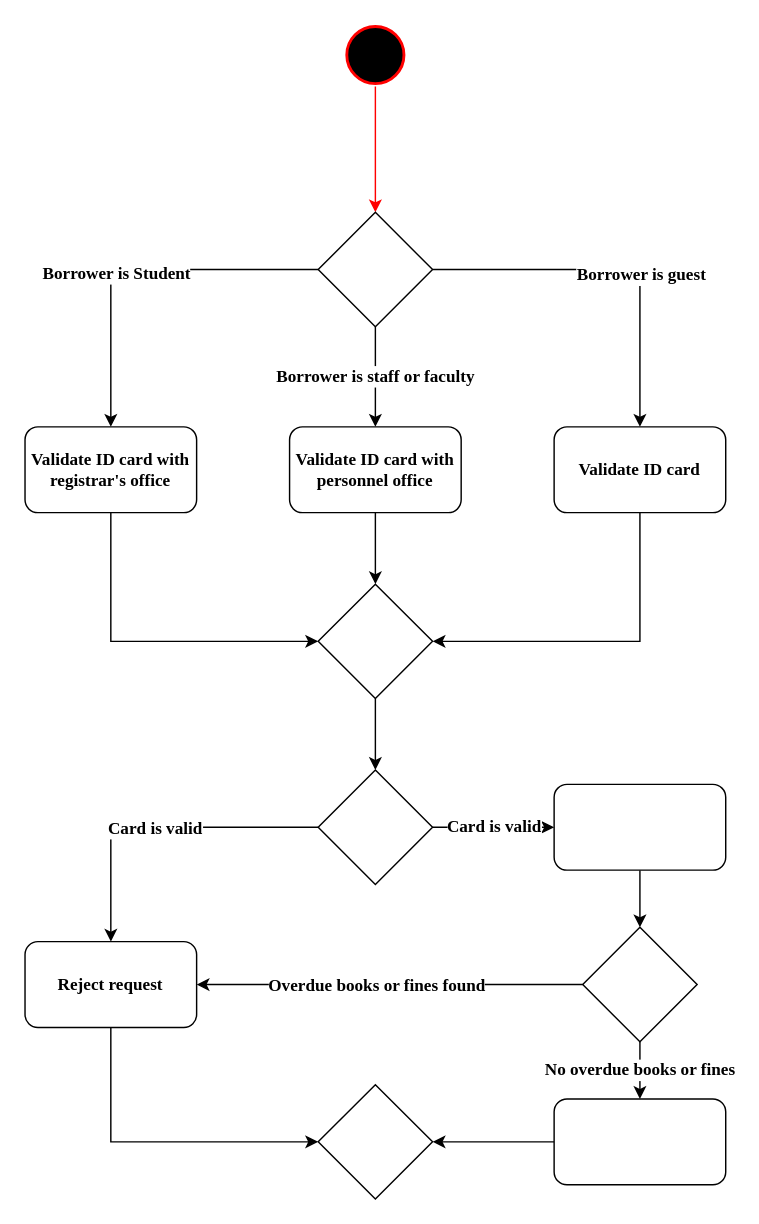
Image size: 759x1224. Some labels were removed from this diagram. The centre of each missing label's shape, as x and y in pixels:
Check overdue books and fines: the point at 639,826
Checkout Book: the point at 639,1141
